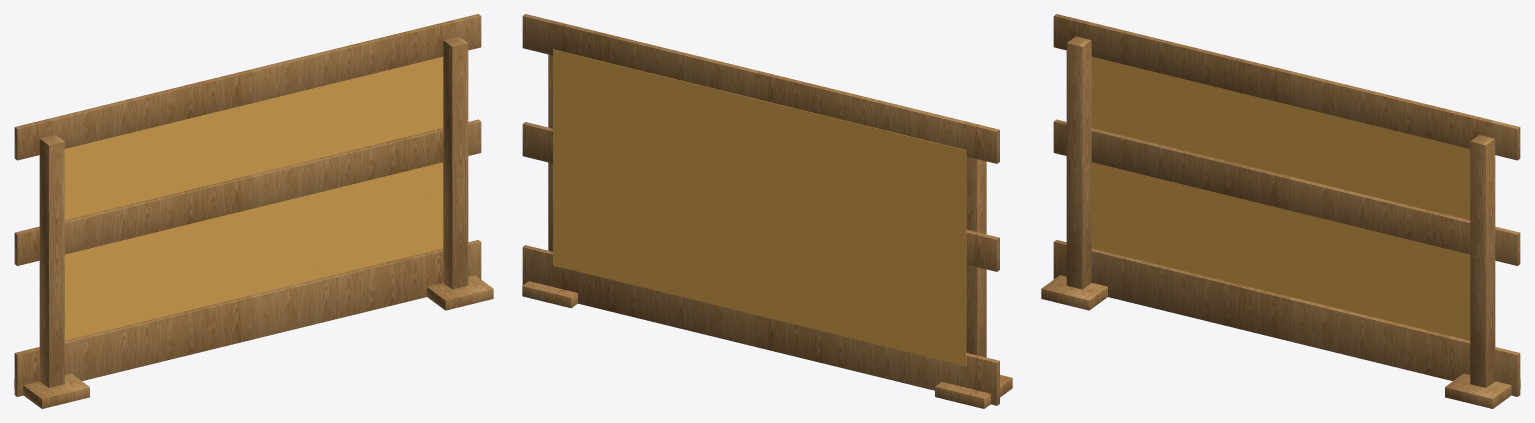
The model's file is SER-EPC-001.glb.
3 views of the same model, side by side, from view 1: azimuth 30°, elevation 25°; view 2: azimuth 150°, elevation 25°; view 3: azimuth 330°, elevation 25° (orthographic). The views are drawn at different scales.
Visible parts, largest first — view 1: SER-EPC-001_tela, SER-EPC-001_trav0, SER-EPC-001_trav2, SER-EPC-001_trav1, SER-EPC-001_montante0, SER-EPC-001_montante1, SER-EPC-001_sapata0, SER-EPC-001_sapata1; view 2: SER-EPC-001_tela, SER-EPC-001_trav0, SER-EPC-001_trav2, SER-EPC-001_montante0, SER-EPC-001_trav1, SER-EPC-001_sapata0, SER-EPC-001_sapata1, SER-EPC-001_montante1; view 3: SER-EPC-001_tela, SER-EPC-001_trav0, SER-EPC-001_trav2, SER-EPC-001_trav1, SER-EPC-001_montante1, SER-EPC-001_montante0, SER-EPC-001_sapata1, SER-EPC-001_sapata0.
Part boxes in pixels (bbox=[...]): SER-EPC-001_tela: bbox=[64, 56, 443, 340]; SER-EPC-001_trav0: bbox=[14, 240, 481, 396]; SER-EPC-001_trav2: bbox=[14, 14, 481, 160]; SER-EPC-001_trav1: bbox=[14, 119, 481, 265]; SER-EPC-001_montante0: bbox=[39, 135, 64, 387]; SER-EPC-001_montante1: bbox=[443, 36, 468, 289]; SER-EPC-001_sapata0: bbox=[14, 373, 89, 408]; SER-EPC-001_sapata1: bbox=[427, 275, 493, 310]; SER-EPC-001_tela: bbox=[553, 49, 966, 366]; SER-EPC-001_trav0: bbox=[522, 245, 999, 405]; SER-EPC-001_trav2: bbox=[522, 14, 999, 163]; SER-EPC-001_montante0: bbox=[966, 156, 986, 357]; SER-EPC-001_trav1: bbox=[522, 122, 999, 271]; SER-EPC-001_sapata0: bbox=[935, 375, 1012, 408]; SER-EPC-001_sapata1: bbox=[522, 281, 577, 308]; SER-EPC-001_montante1: bbox=[548, 54, 552, 251]; SER-EPC-001_tela: bbox=[1091, 56, 1470, 340]; SER-EPC-001_trav0: bbox=[1053, 240, 1520, 396]; SER-EPC-001_trav2: bbox=[1053, 14, 1520, 160]; SER-EPC-001_trav1: bbox=[1053, 119, 1520, 265]; SER-EPC-001_montante1: bbox=[1470, 135, 1495, 387]; SER-EPC-001_montante0: bbox=[1066, 36, 1091, 289]; SER-EPC-001_sapata1: bbox=[1445, 373, 1520, 408]; SER-EPC-001_sapata0: bbox=[1041, 275, 1107, 310].
Bounding box in the file's own units: 2.3 × 1.27 × 0.24.
2 materials, 1 textured.
